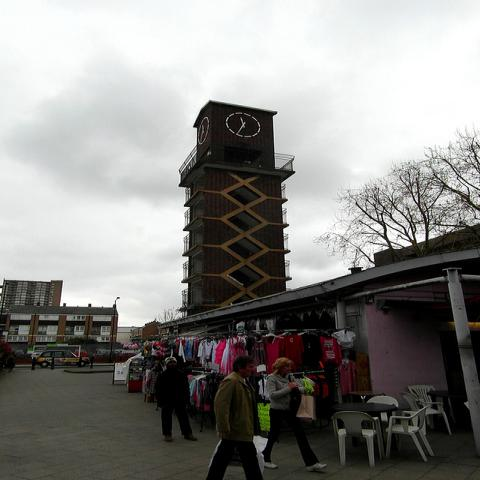car: (34, 349, 91, 368), (75, 350, 89, 358)
